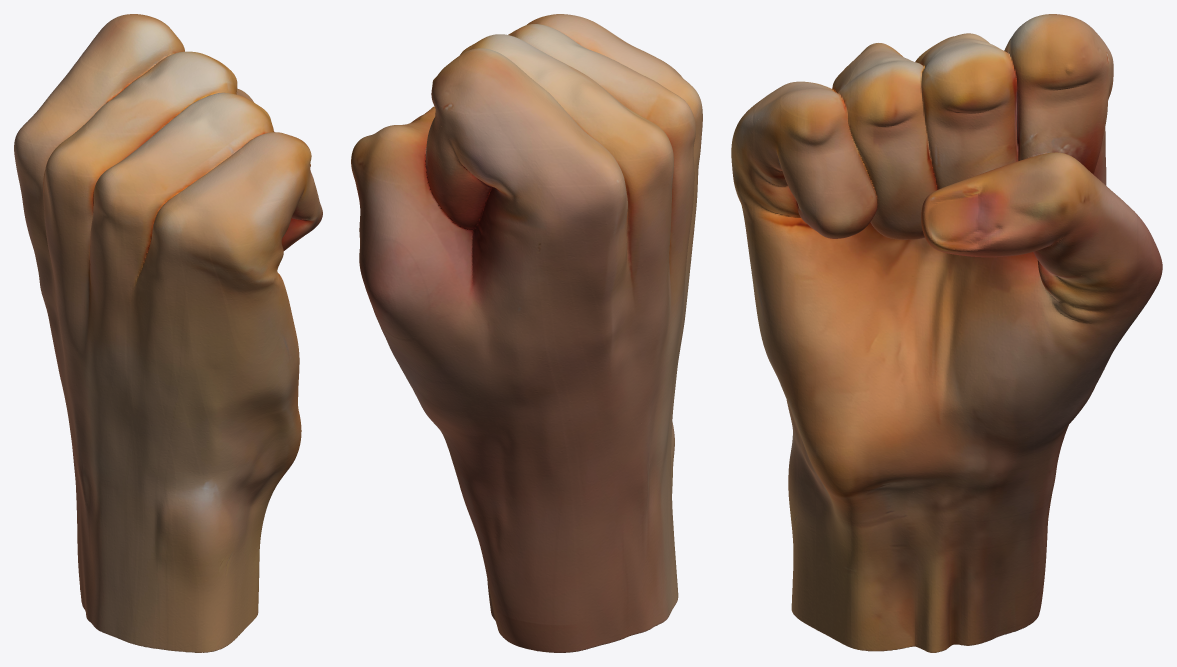
Rendered from letter_S.glb.
3 views of the same model, side by side, from view 1: azimuth 30°, elevation 25°; view 2: azimuth 150°, elevation 25°; view 3: azimuth 270°, elevation 25° (orthographic). The views are drawn at different scales.
Visible parts, largest first — view 1: tripo_node_7697b471-f041-4d1f-8e00-7bc74f5fcb9b; view 2: tripo_node_7697b471-f041-4d1f-8e00-7bc74f5fcb9b; view 3: tripo_node_7697b471-f041-4d1f-8e00-7bc74f5fcb9b.
Boxes of the visible parts, x1,y1,x2,y2 form: tripo_node_7697b471-f041-4d1f-8e00-7bc74f5fcb9b: (14,14,322,652); tripo_node_7697b471-f041-4d1f-8e00-7bc74f5fcb9b: (351,14,702,652); tripo_node_7697b471-f041-4d1f-8e00-7bc74f5fcb9b: (731,14,1162,652).
Size of the model in its own units: 0.4943 by 1 by 0.6376.
Materials: 1 (1 with a texture image).
